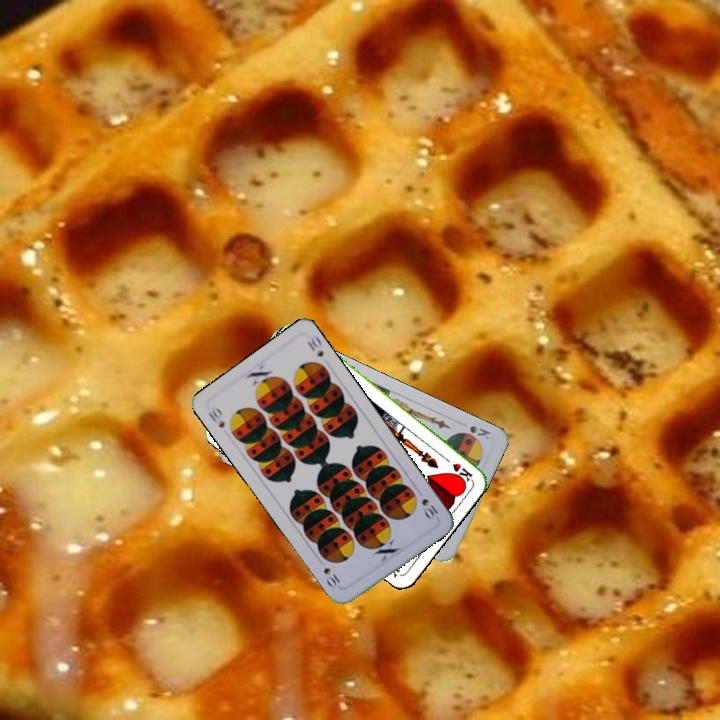HK: (439, 453, 475, 484)
S10: (413, 485, 442, 523), (204, 403, 227, 431)
SK: (466, 421, 493, 442)
